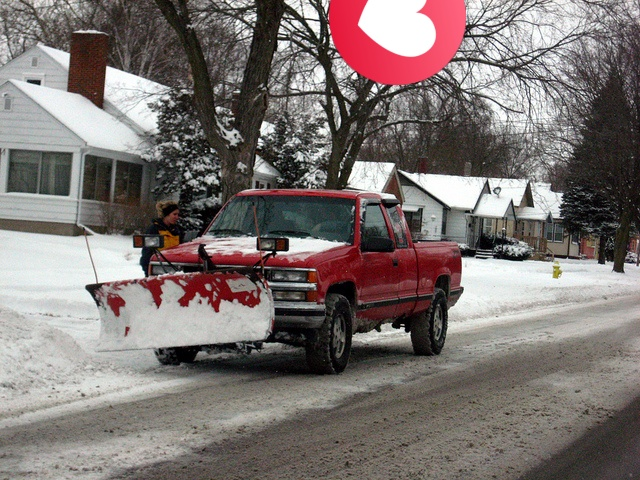love: (329, 0, 466, 85)
